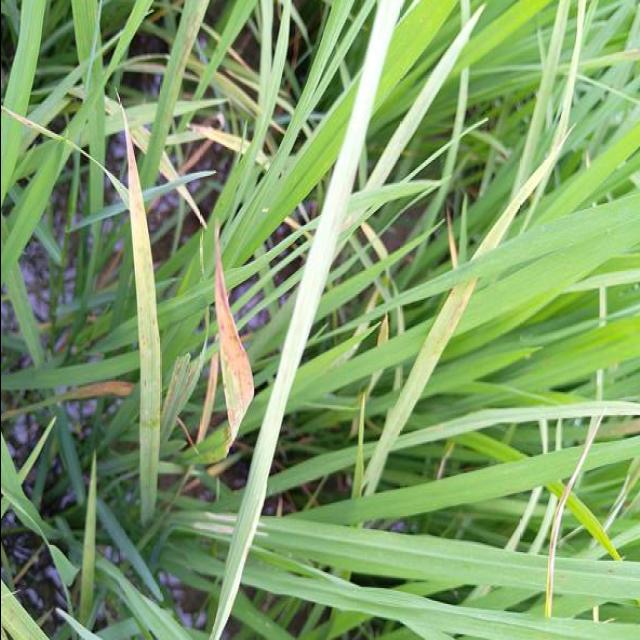Leaf Streak: (117, 94, 160, 484), (188, 231, 253, 463), (462, 140, 564, 265), (419, 278, 476, 391), (195, 350, 217, 444)
